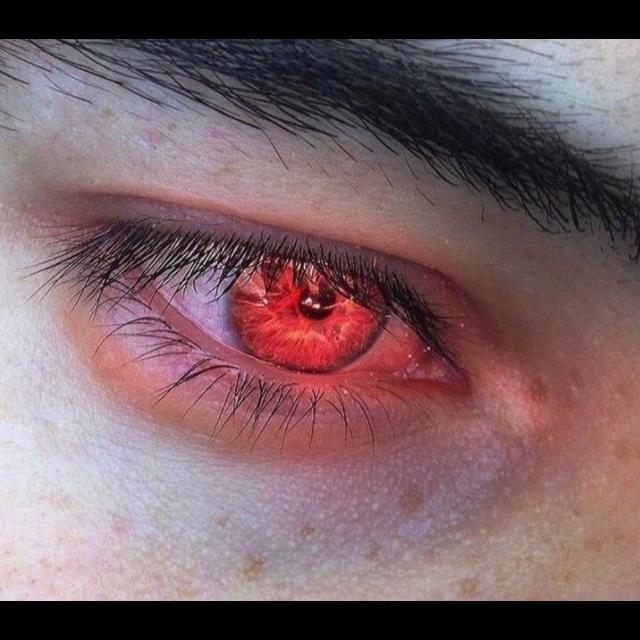eye: (120, 216, 426, 383)
iris: (230, 249, 387, 373)
